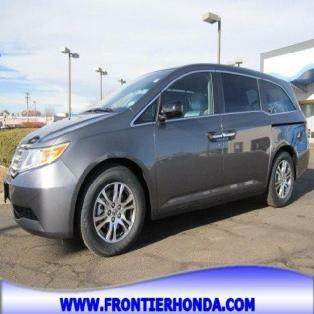Auto: (3, 63, 310, 260)
